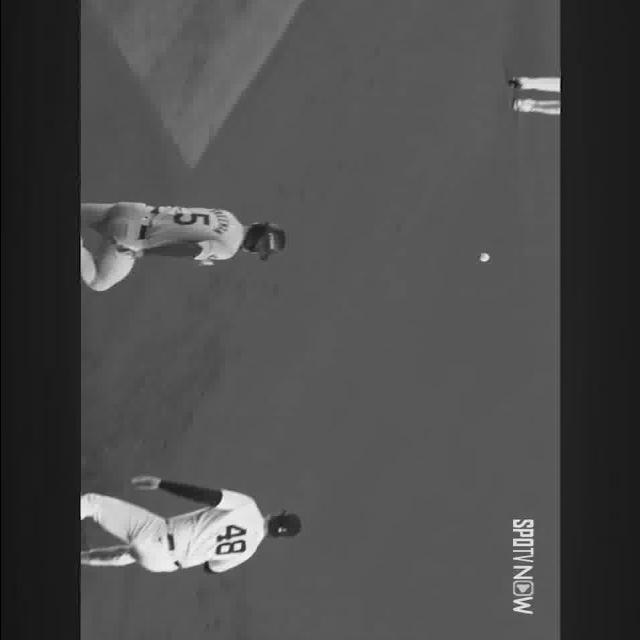baseball: (477, 253, 488, 261)
shoe: (508, 76, 532, 90), (512, 98, 535, 112)
